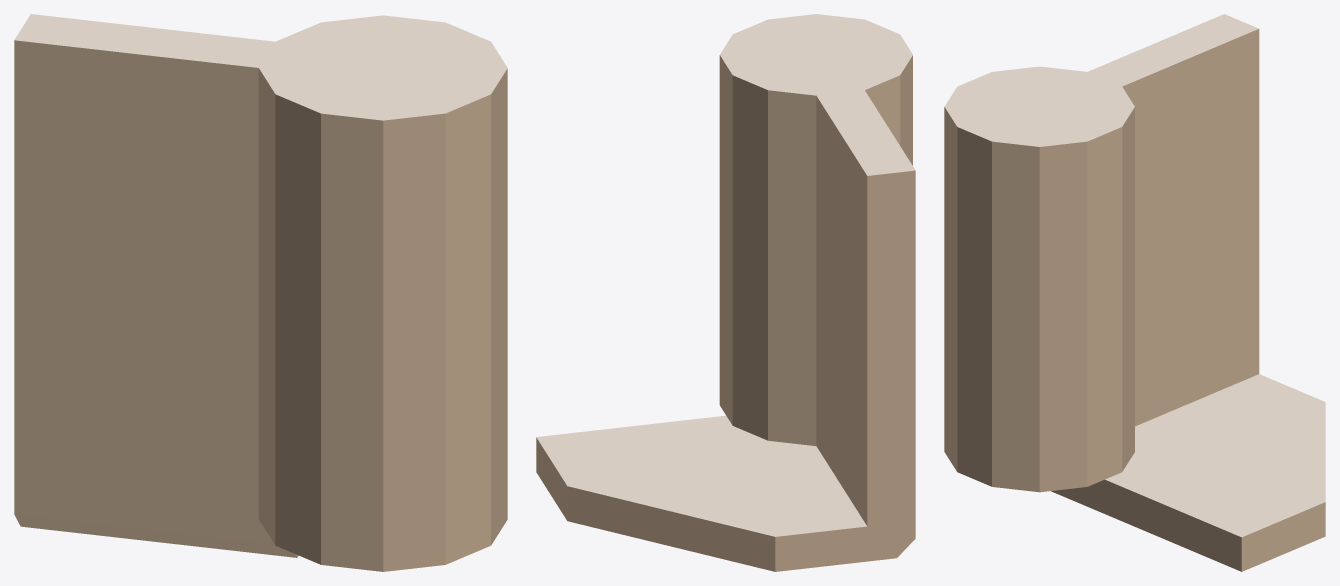
File: Tower_Top.fbx
The picture shows the model from 3 angles, left to right: view 1: azimuth 30°, elevation 25°; view 2: azimuth 150°, elevation 25°; view 3: azimuth 270°, elevation 25°; orthographic projection. The views are drawn at different scales.
Parts seen in each view (by area): view 1: Sandstone_Trim.object1, Sandstone_Trim.object3, Sandstone_Floor (×2); view 2: Sandstone_Trim.object3, Sandstone_Trim.object1, object2, Sandstone_Floor (×2), Sandstone_Trim; view 3: Sandstone_Trim.object3, Sandstone_Trim.object1, object2, Sandstone_Floor (×2), Sandstone_Trim.
Part boxes in pixels (x1,y1,x2,y2): Sandstone_Trim.object1: [14, 40, 298, 557]; Sandstone_Trim.object3: [258, 68, 507, 571]; Sandstone_Floor (×2): [14, 14, 507, 120]; Sandstone_Trim.object3: [719, 55, 912, 445]; Sandstone_Trim.object1: [816, 96, 915, 561]; object2: [536, 415, 866, 536]; Sandstone_Floor (×2): [720, 14, 915, 175]; Sandstone_Trim: [536, 437, 891, 571]; Sandstone_Trim.object3: [944, 107, 1134, 492]; Sandstone_Trim.object1: [1122, 29, 1259, 426]; object2: [1105, 374, 1325, 537]; Sandstone_Floor (×2): [944, 14, 1258, 146]; Sandstone_Trim: [1051, 479, 1325, 571].
Size of the model in its own units: 2.21 by 2.2 by 2.
